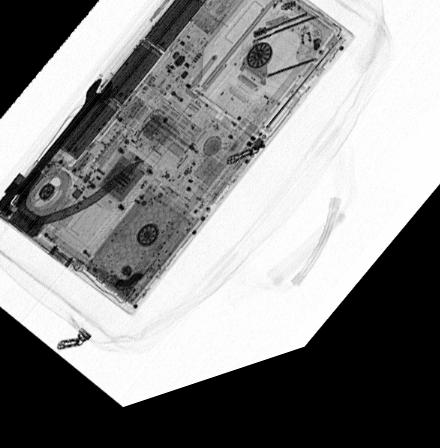Wrench: (3, 83, 115, 210)
